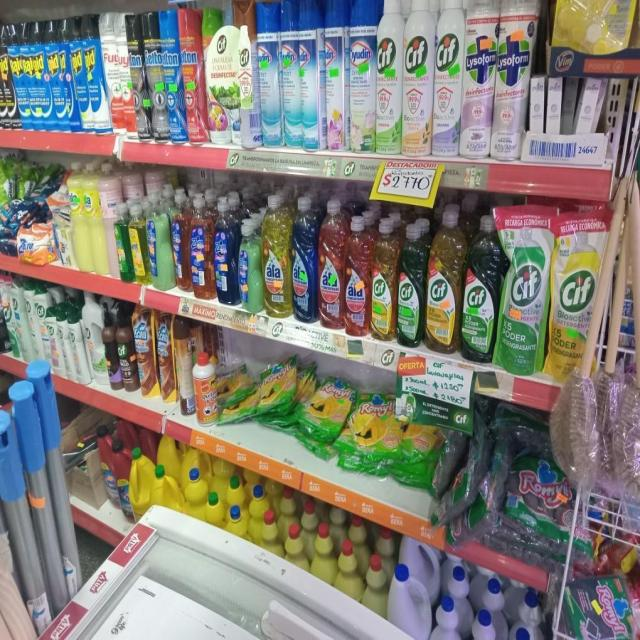ala_conc_amarillo: (263, 194, 290, 319)
ala_conc_azul: (292, 196, 316, 324)
ala_conc_rojo: (318, 199, 344, 331), (345, 214, 370, 336)
ala_crem_amarillo: (85, 161, 104, 275), (70, 161, 86, 272)
cif_conc_bot_amarilla: (426, 206, 461, 353), (371, 217, 396, 341)
cif_conc_botella_verde: (462, 213, 497, 363), (398, 220, 424, 347)
cif_conc_sachet_amarillo: (549, 208, 601, 380)
cif_conc_sachet_verde: (499, 207, 547, 374)
magistral_con_amarillo: (0, 25, 9, 116)
